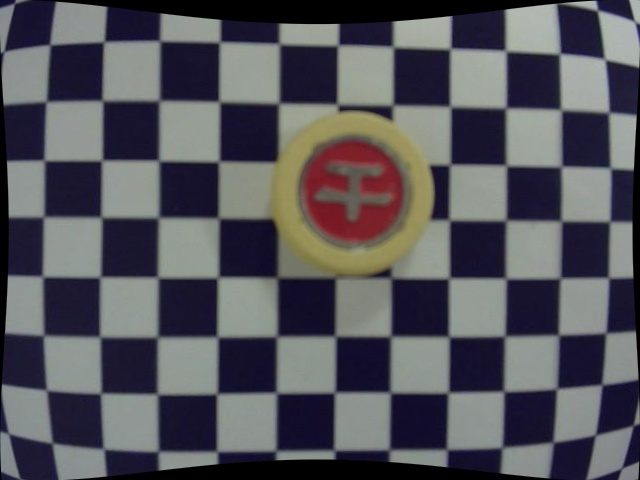Red-Guard: (296, 134, 411, 250)
